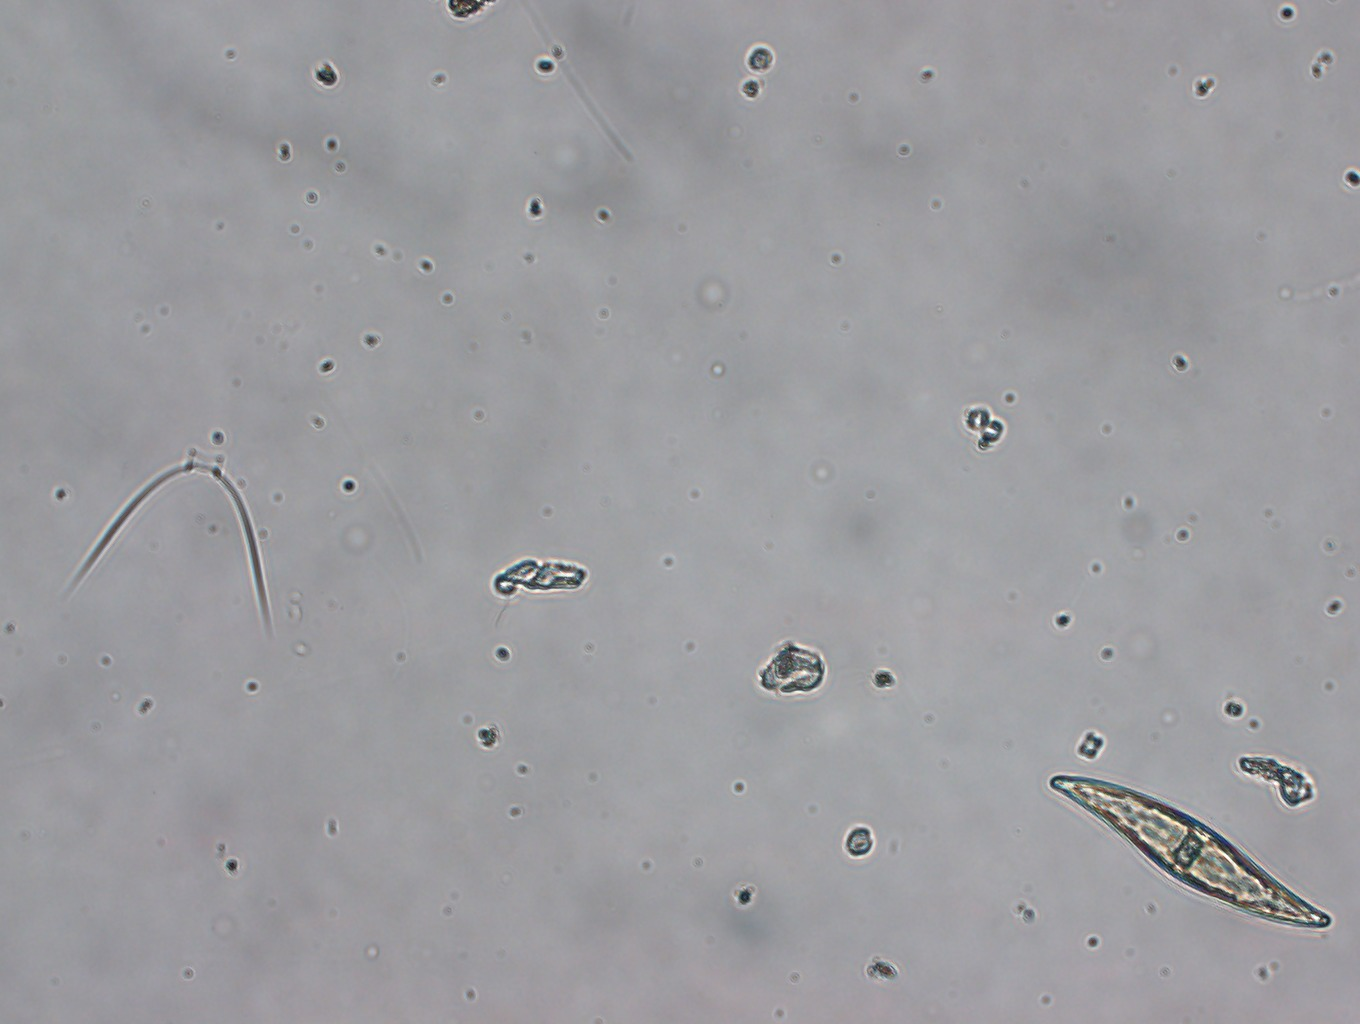chaetoceros: (62, 438, 299, 650)
pleurosigma pelagicum: (1037, 759, 1338, 931)
